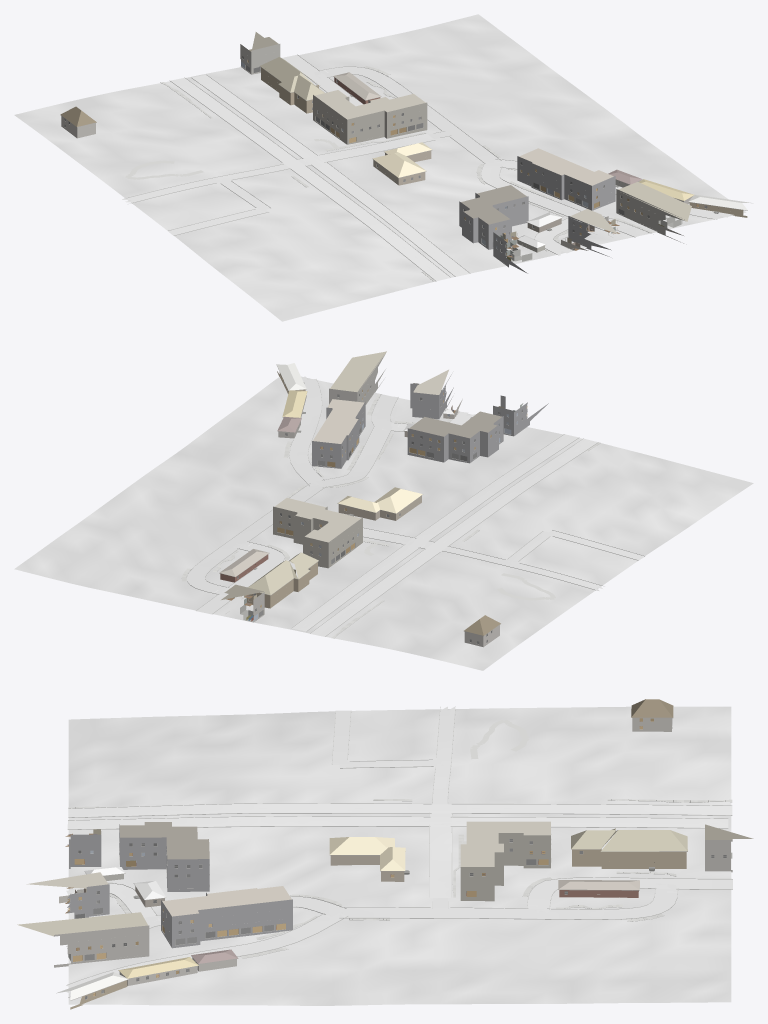
3 views of the same model, one above another, from view 1: azimuth 30°, elevation 25°; view 2: azimuth 150°, elevation 25°; view 3: azimuth 270°, elevation 25° (orthographic). The views are drawn at different scales.
Parts seen in each view (by area): view 1: ground, wall_com, concrete, asphalt, roof_flat, roof, curb, wall, walk, room, detail, glass_lit (+1 smaller); view 2: ground, concrete, wall_com, asphalt, roof_flat, roof, curb, wall, walk, detail, glass_lit, glass (+1 smaller); view 3: ground, wall_com, concrete, asphalt, roof_flat, roof, curb, wall, walk, wall_stone, detail, glass (+3 smaller).
Boxes of the visible parts, bbox=[...] form: ground: bbox=[14, 14, 746, 321]; wall_com: bbox=[240, 44, 684, 273]; concrete: bbox=[122, 55, 730, 255]; asphalt: bbox=[171, 75, 469, 281]; roof_flat: bbox=[252, 32, 691, 233]; roof: bbox=[60, 57, 753, 247]; curb: bbox=[122, 54, 716, 281]; wall: bbox=[261, 67, 747, 232]; walk: bbox=[125, 66, 652, 281]; room: bbox=[249, 49, 696, 261]; detail: bbox=[60, 58, 747, 255]; glass_lit: bbox=[241, 60, 698, 255]; ground: bbox=[14, 376, 753, 670]; concrete: bbox=[187, 376, 644, 614]; wall_com: bbox=[253, 353, 548, 621]; asphalt: bbox=[292, 434, 597, 636]; roof_flat: bbox=[221, 351, 501, 599]; roof: bbox=[219, 363, 500, 635]; curb: bbox=[186, 379, 644, 636]; wall: bbox=[220, 371, 421, 608]; walk: bbox=[182, 394, 600, 638]; detail: bbox=[219, 366, 522, 644]; glass_lit: bbox=[253, 378, 527, 620]; glass: bbox=[237, 375, 522, 643]; ground: bbox=[68, 706, 731, 1005]; wall_com: bbox=[54, 824, 732, 967]; concrete: bbox=[66, 706, 732, 993]; asphalt: bbox=[67, 803, 732, 829]; roof_flat: bbox=[17, 821, 753, 936]; roof: bbox=[56, 699, 687, 1000]; curb: bbox=[66, 706, 732, 997]; wall: bbox=[70, 848, 686, 1009]; walk: bbox=[68, 720, 732, 958]; wall_stone: bbox=[119, 718, 672, 985]; detail: bbox=[70, 717, 726, 1000]; glass: bbox=[75, 839, 726, 999].
Bounding box in the file's own units: 257 × 19.3 × 279.
